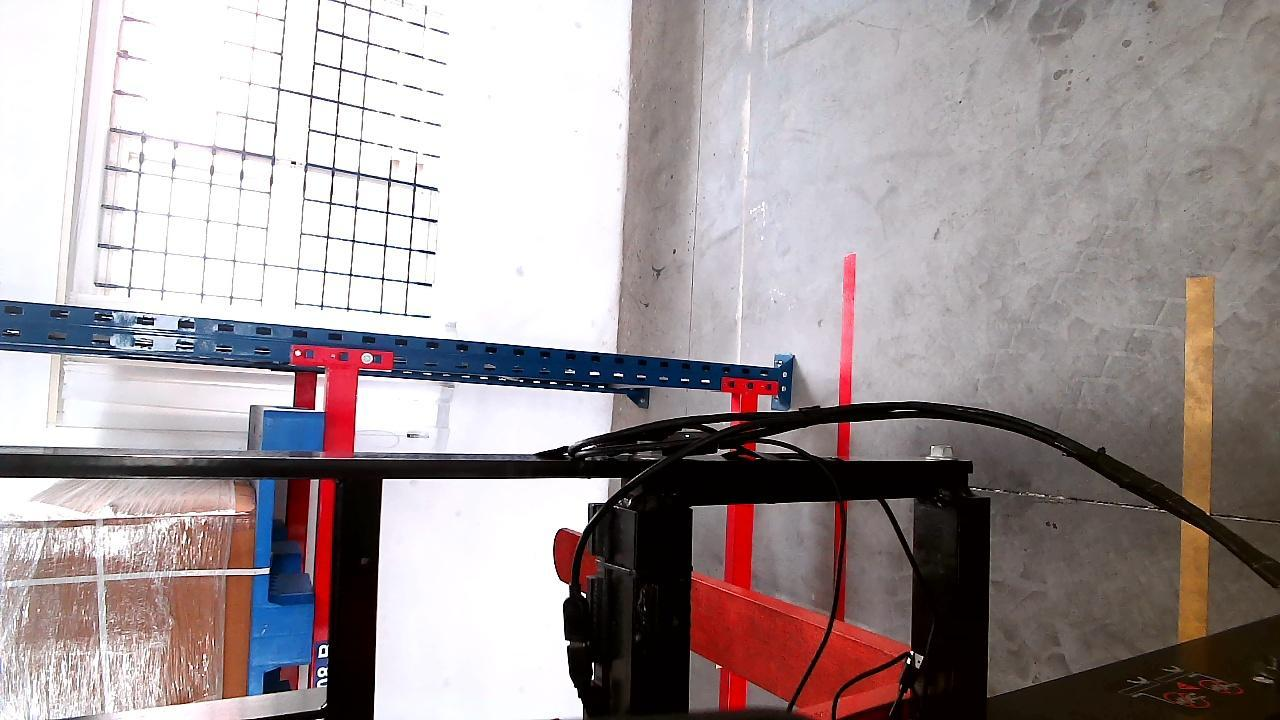red_line: (833, 253, 856, 618)
yellow_line: (1180, 270, 1215, 647)
